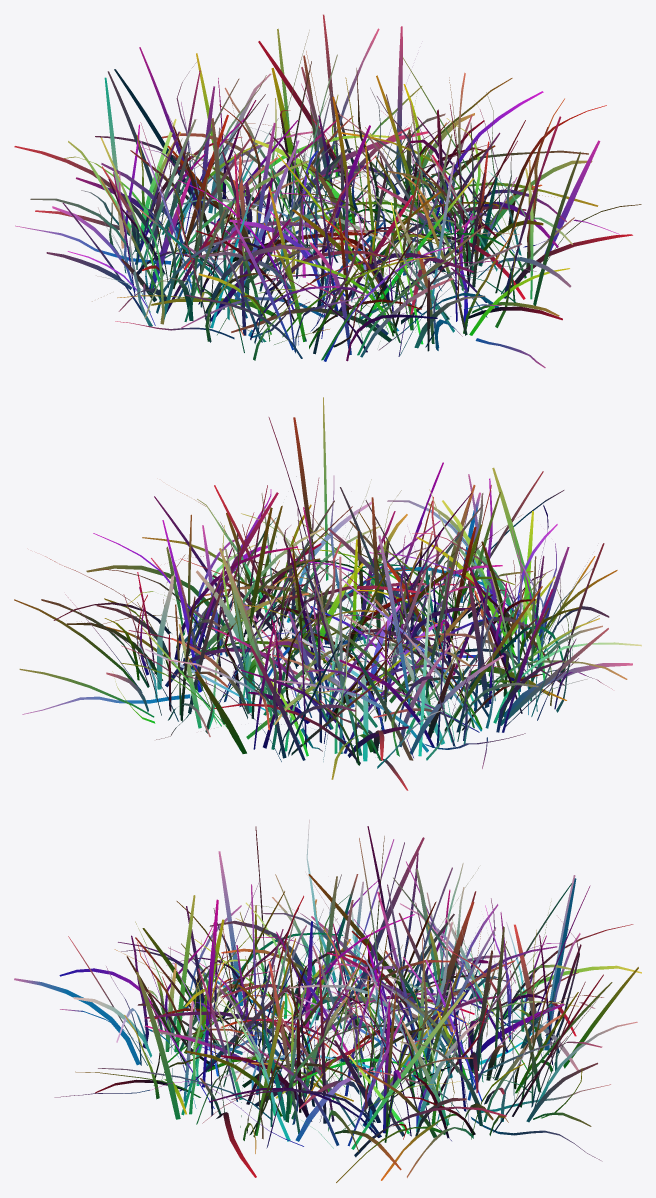
Rendered from Wild_Grass_vlkhcbxia_Mid_vlkhcbxia_VarB_LOD0.fbx.
3 renders of one model, top to bottom at view 1: azimuth 30°, elevation 25°; view 2: azimuth 150°, elevation 25°; view 3: azimuth 270°, elevation 25°, orthographic. The views are drawn at different scales.
Parts seen in each view (by area): view 1: _haj9_VarB_LOD1; view 2: _haj9_VarB_LOD1; view 3: _haj9_VarB_LOD1.
Part boxes in pixels (x1,y1,x2,y2): _haj9_VarB_LOD1: (14, 14, 641, 367); _haj9_VarB_LOD1: (14, 397, 641, 790); _haj9_VarB_LOD1: (14, 819, 641, 1182).
Bounding box in the file's own units: 54.6 × 17.08 × 54.13.
